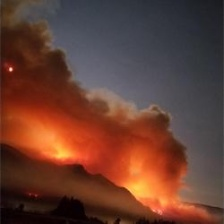fire: (32, 138, 208, 221)
smoke: (1, 22, 180, 131)
